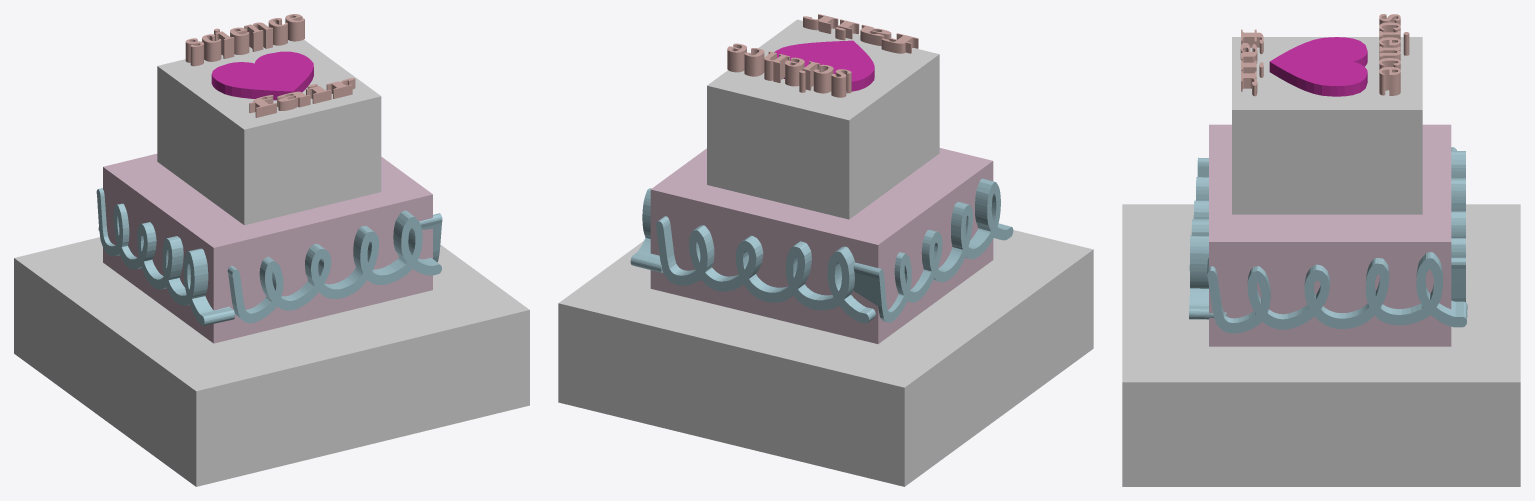
The model's file is Hazel 3-Tiered Cake.glb.
3 views of the same model, side by side, from view 1: azimuth 30°, elevation 25°; view 2: azimuth 150°, elevation 25°; view 3: azimuth 270°, elevation 25° (orthographic). The views are drawn at different scales.
Parts seen in each view (by area): view 1: Mesh_Mesh_head_geo.001_lambert2SG.001; view 2: Mesh_Mesh_head_geo.001_lambert2SG.001; view 3: Mesh_Mesh_head_geo.001_lambert2SG.001.
Part boxes in pixels (<box>): Mesh_Mesh_head_geo.001_lambert2SG.001: <box>14,14,529,486</box>; Mesh_Mesh_head_geo.001_lambert2SG.001: <box>558,14,1093,486</box>; Mesh_Mesh_head_geo.001_lambert2SG.001: <box>1122,14,1520,486</box>.
Size of the model in its own units: 0.073 by 0.068 by 0.069.
